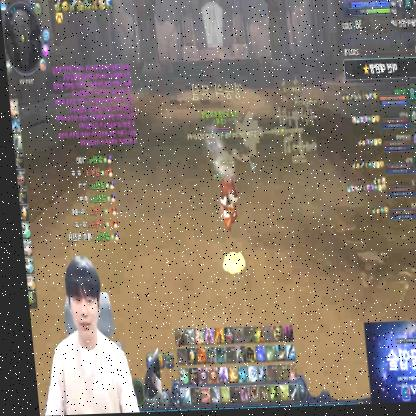streamer: (24, 255, 132, 416)
